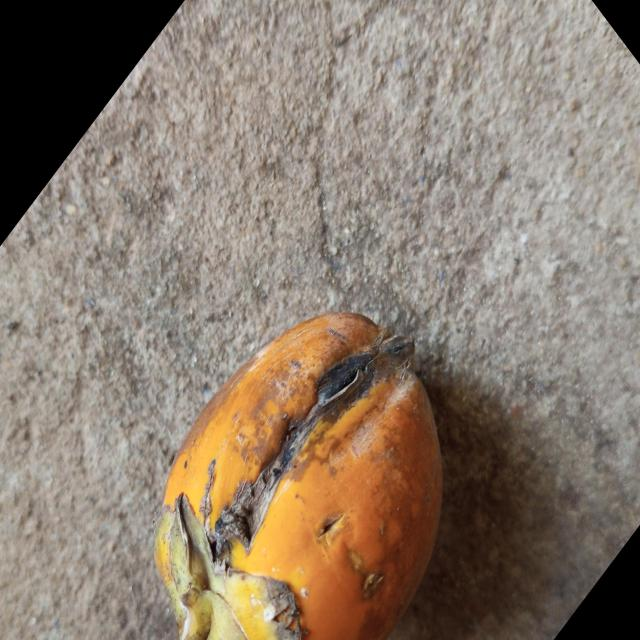damaged: (154, 312, 444, 640)
